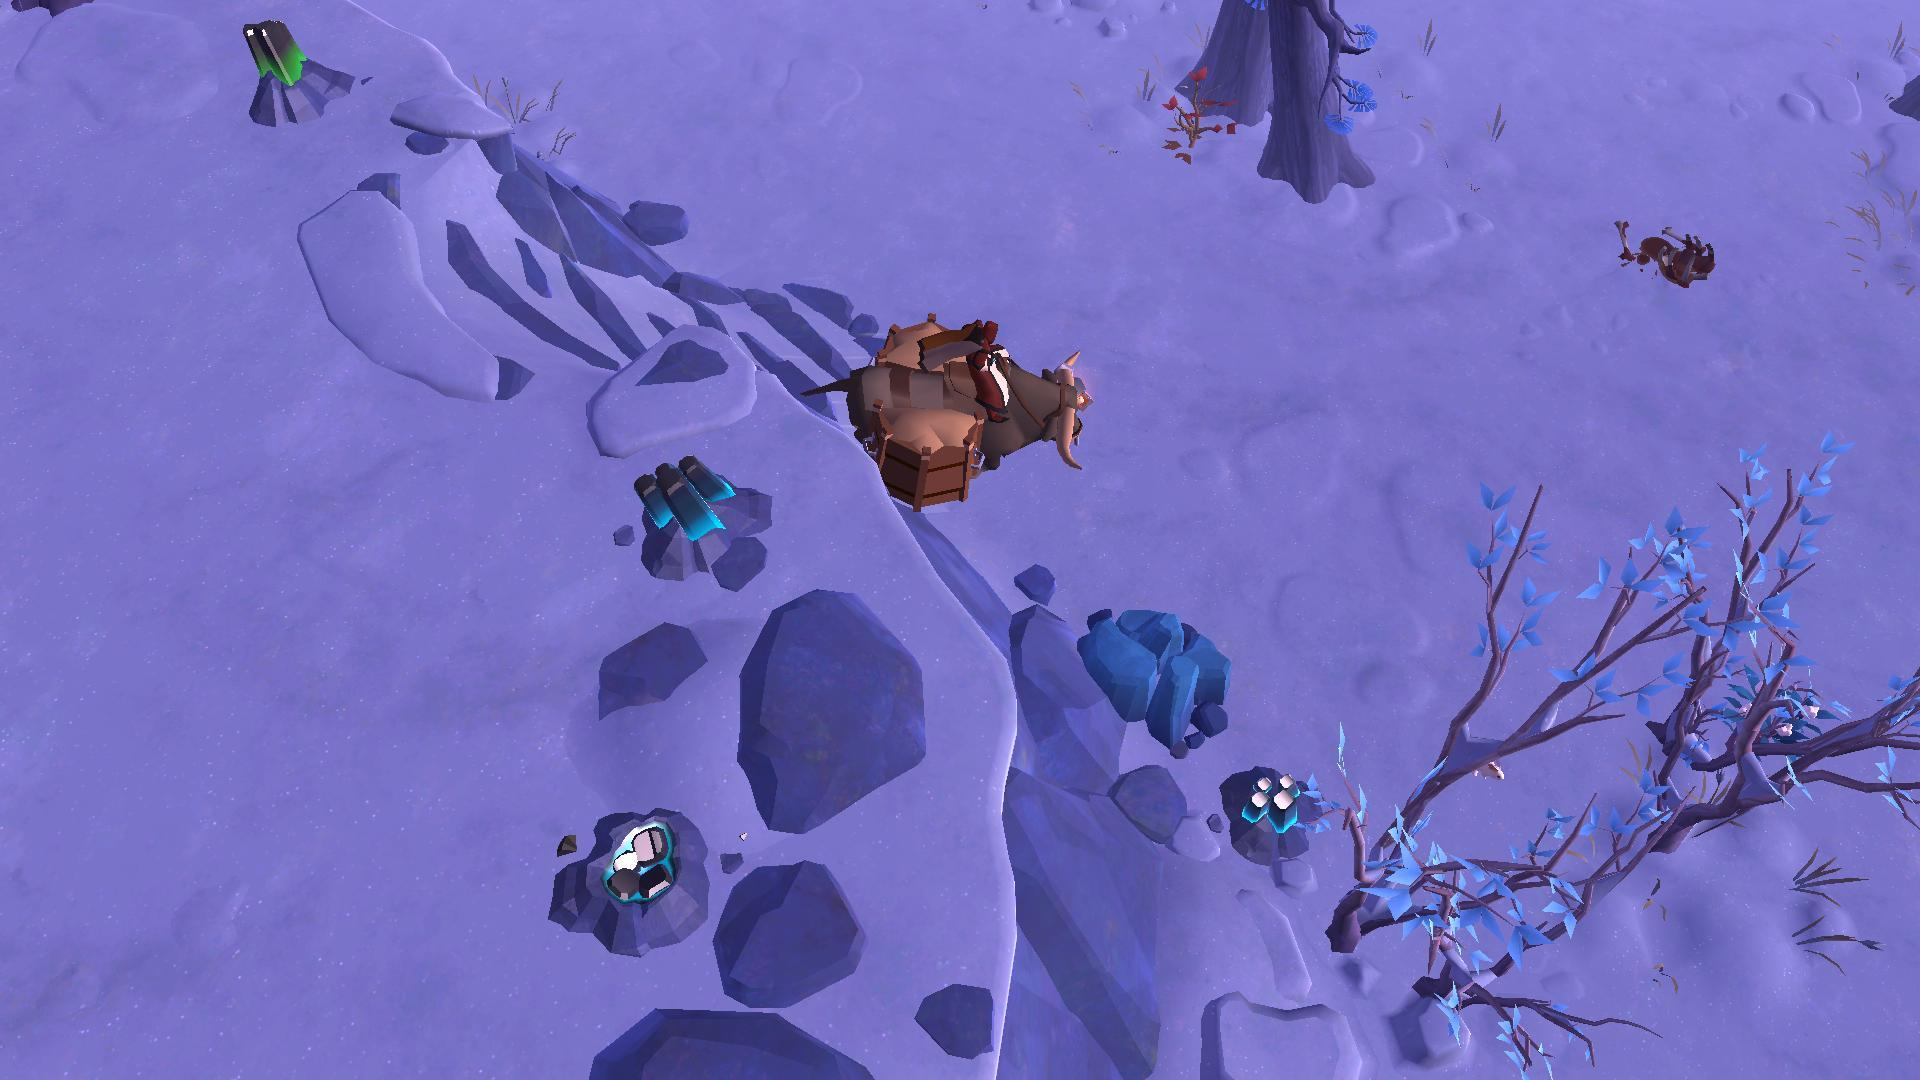fiber_t4: (1729, 663, 1825, 760)
ore_t3: (239, 16, 302, 84)
ore_t4: (640, 446, 732, 550), (1242, 761, 1300, 839)
rock_t4: (1072, 596, 1237, 756)
